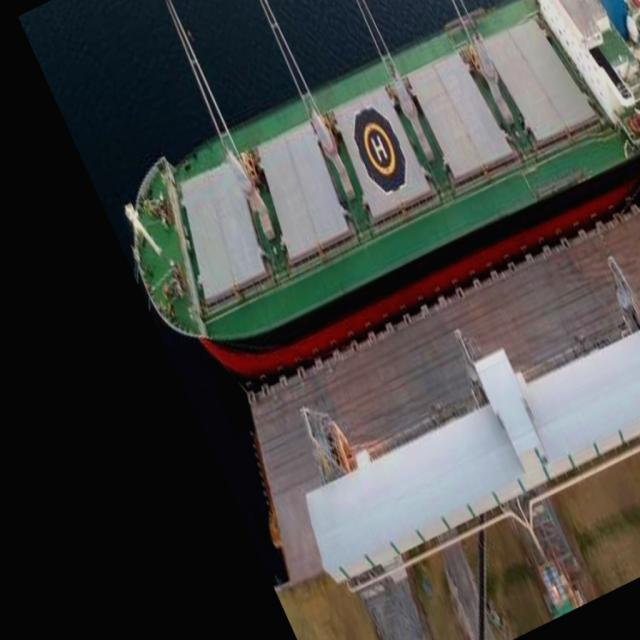helipad: (360, 118, 397, 176)
